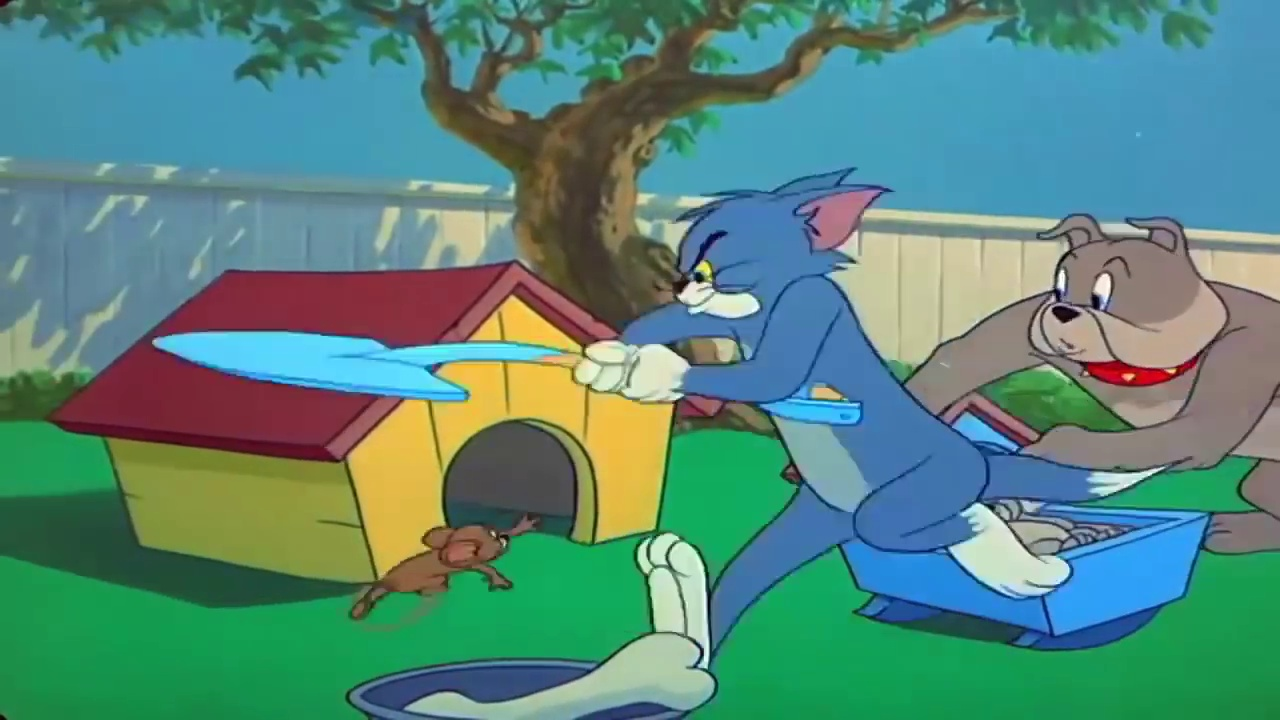spike: (1022, 211, 1231, 389)
tom: (662, 167, 897, 331)
